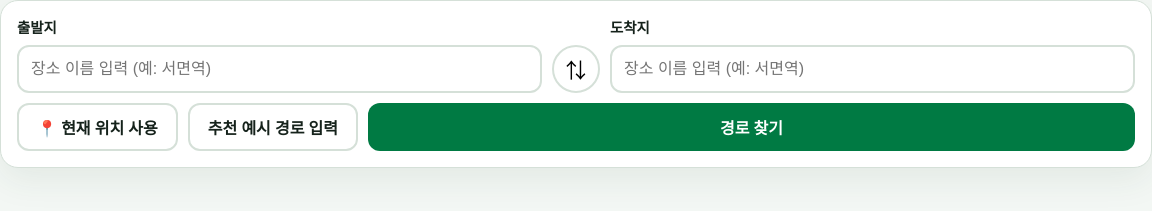
Scenario: 출발지·도착지 장소 검색 › 입력 영역 밖을 누르면 열려 있던 장소 결과를 닫는다
The width and height of the screenshot is (1152, 211).
Type "부산역" into the dropdown labelled "출발지".
click(280, 69); type("부산역")  # box x1=17 y1=45 x2=542 y2=93
Wait 200 ms
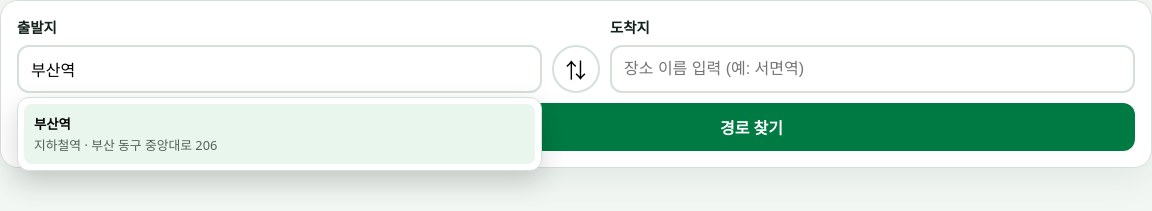
Result: the option "부산역 지하철역 · 부산 동구 중앙대로 206" is shown at x1=24 y1=104 x2=535 y2=164
Press the mouse on the element that starts with "출발지" at x=576, y=84, box x1=0 y1=0 x2=1151 y2=168
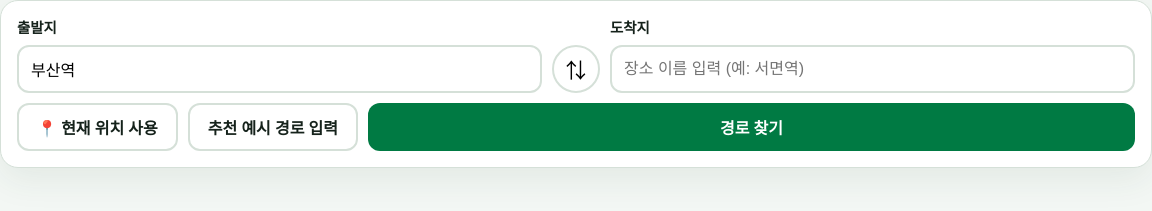
Result: the option is gone
